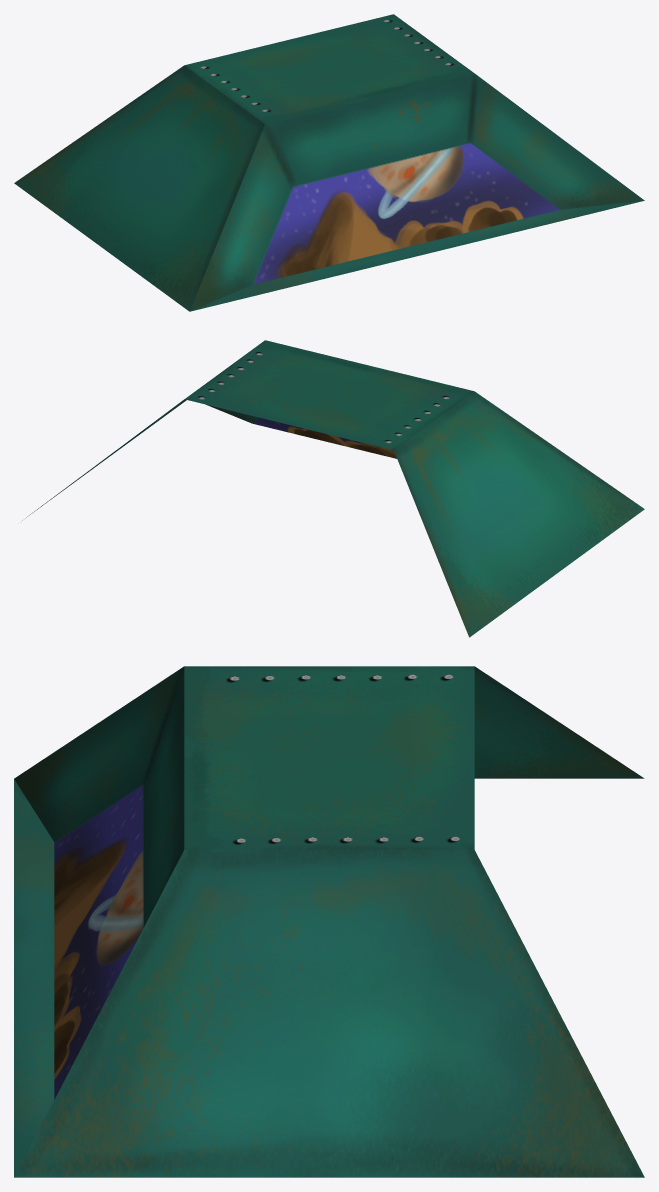
The model's file is RoofUVTexture V2.fbx.
3 views of the same model, one above another, from view 1: azimuth 30°, elevation 25°; view 2: azimuth 150°, elevation 25°; view 3: azimuth 270°, elevation 25° (orthographic). The views are drawn at different scales.
Parts seen in each view (by area): view 1: Roof_polySurface2; view 2: Roof_polySurface2; view 3: Roof_polySurface2.
Part boxes in pixels (<box>): Roof_polySurface2: <box>14,14,644,311</box>; Roof_polySurface2: <box>22,340,644,637</box>; Roof_polySurface2: <box>14,666,644,1177</box>.
Size of the model in its own units: 101 by 26 by 67.5.
Materials: 1 (1 with a texture image).
